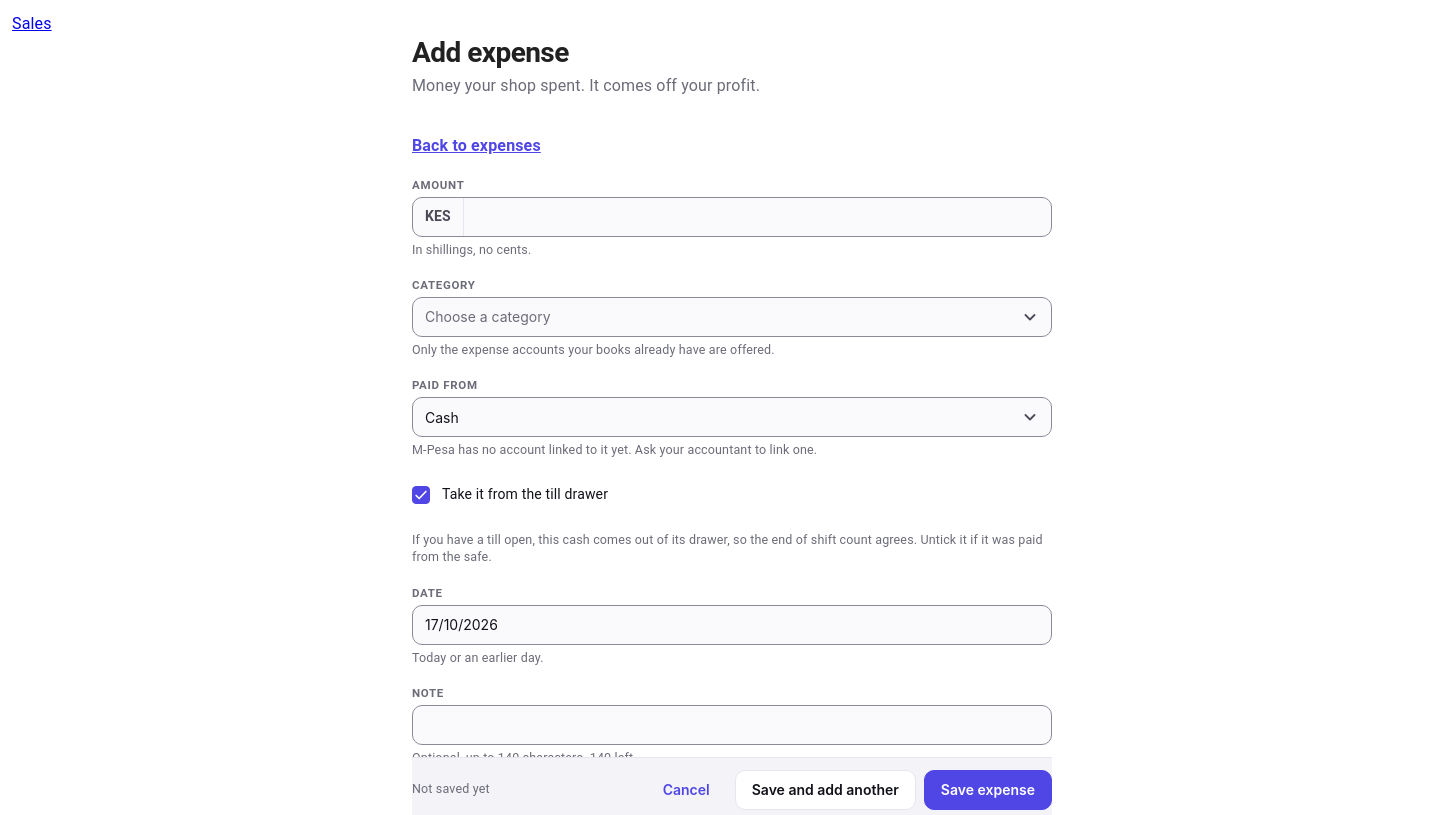
Test: paying from the till drawer › only cash can come out of a drawer, so the choice goes away for the bank
Expected: the field labelled "Amount" is shown, [464, 198, 1051, 236]
Expected: the checkbox labelled "Take it from the till drawer" is shown, [412, 486, 608, 504]
Click the dropdown labelled "Cash": (442, 417) [412, 397, 1052, 437]
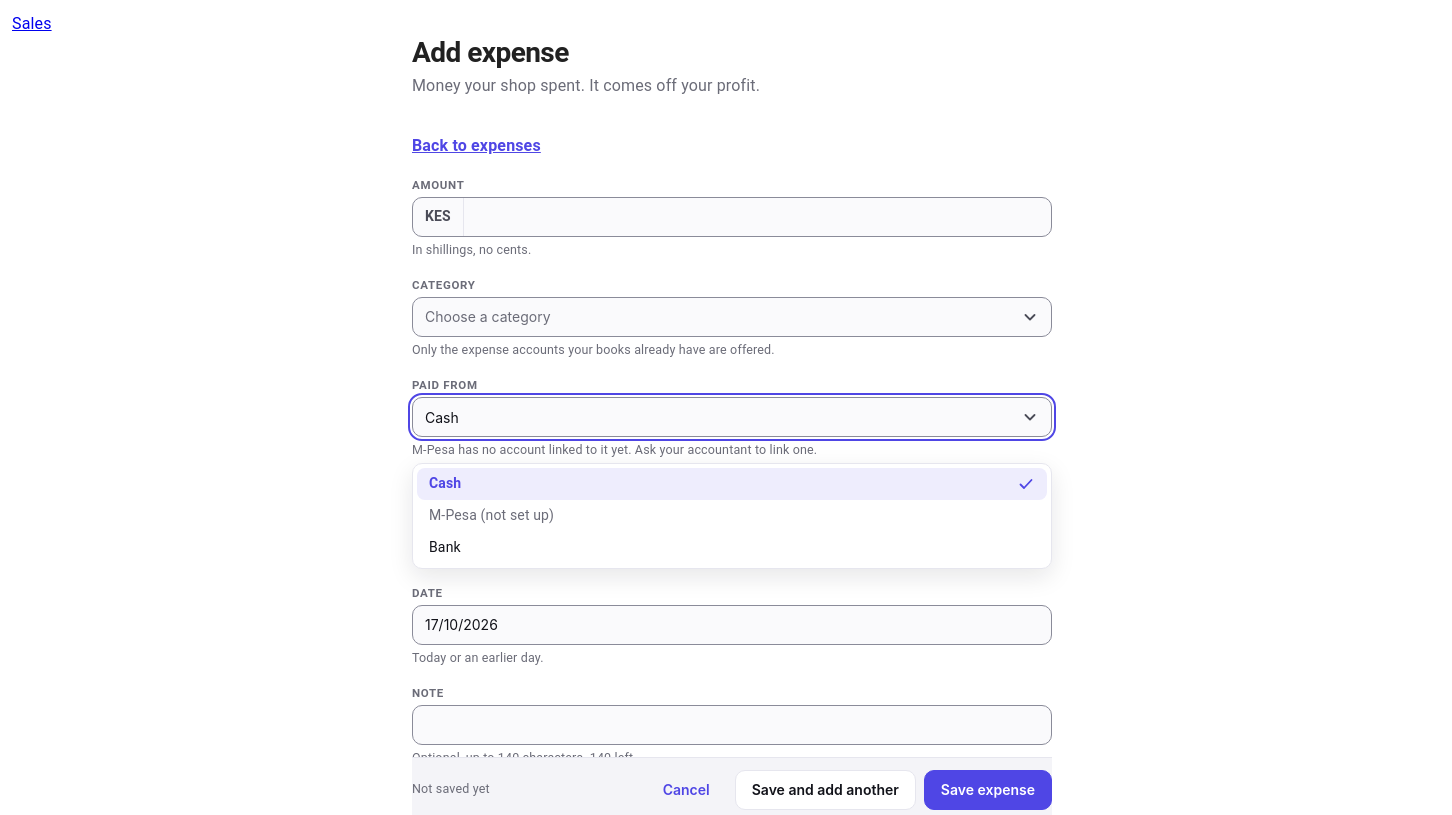
Click the option "Bank": (445, 547) [429, 539, 461, 555]
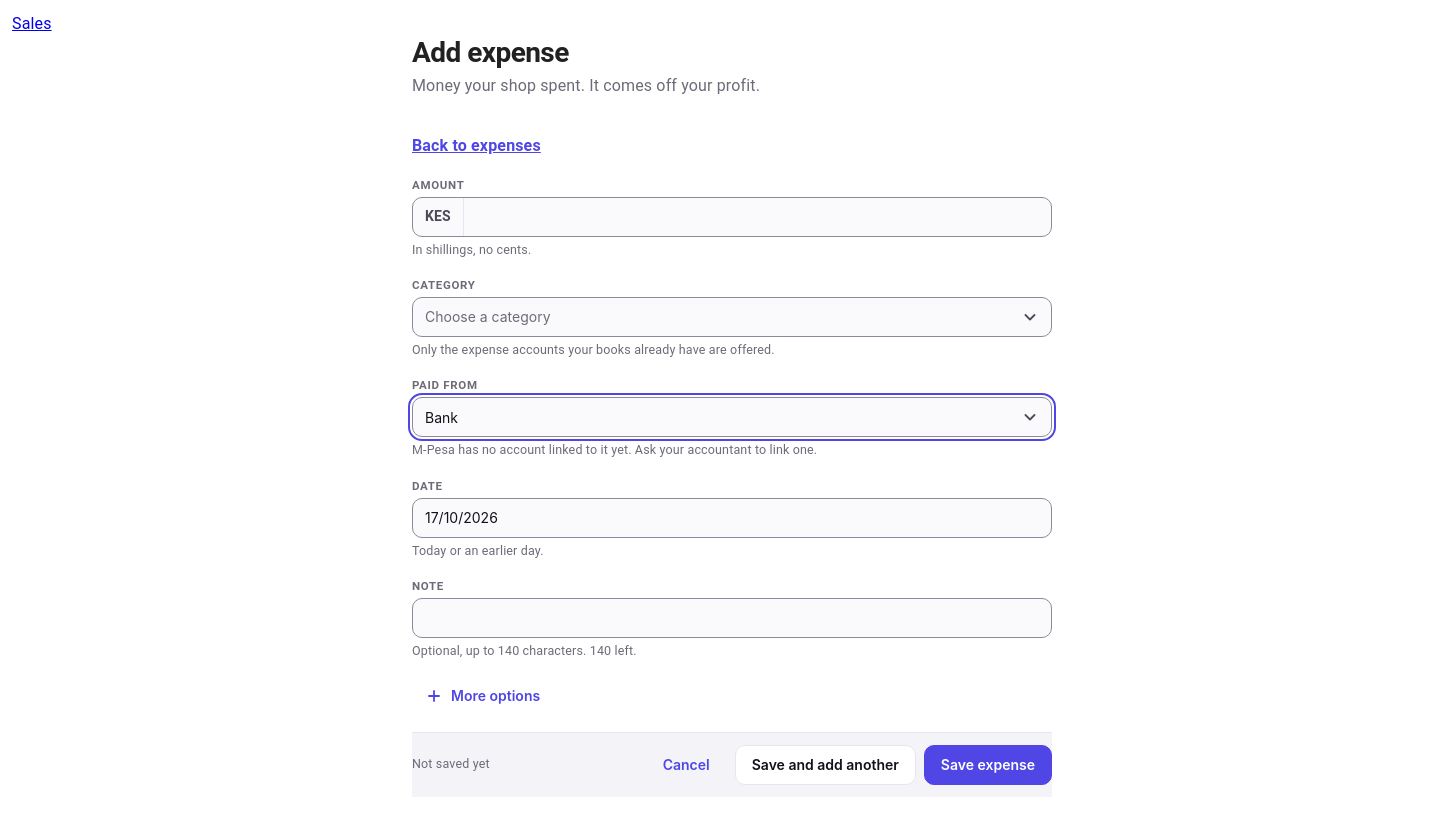
Expected: the text "Take it from the till drawer" is gone
